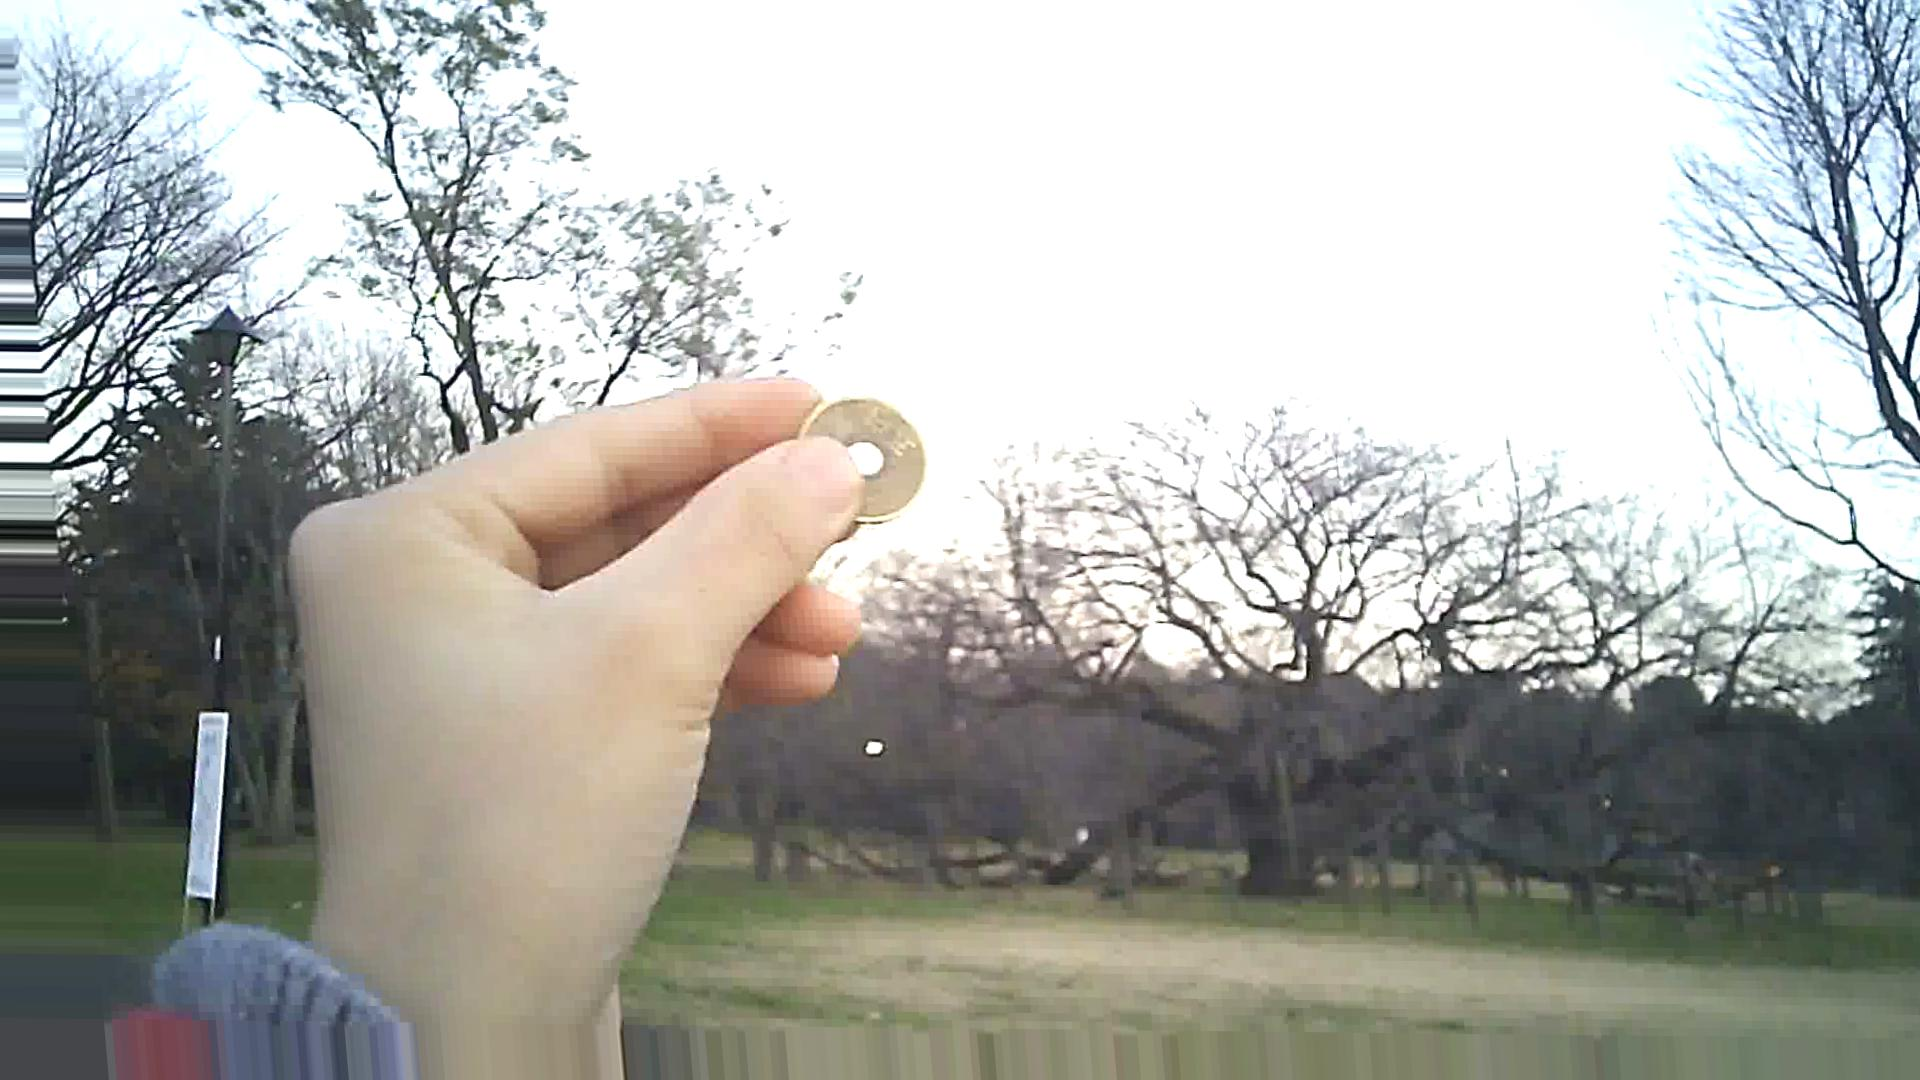5 Yen: (796, 388, 931, 530)
